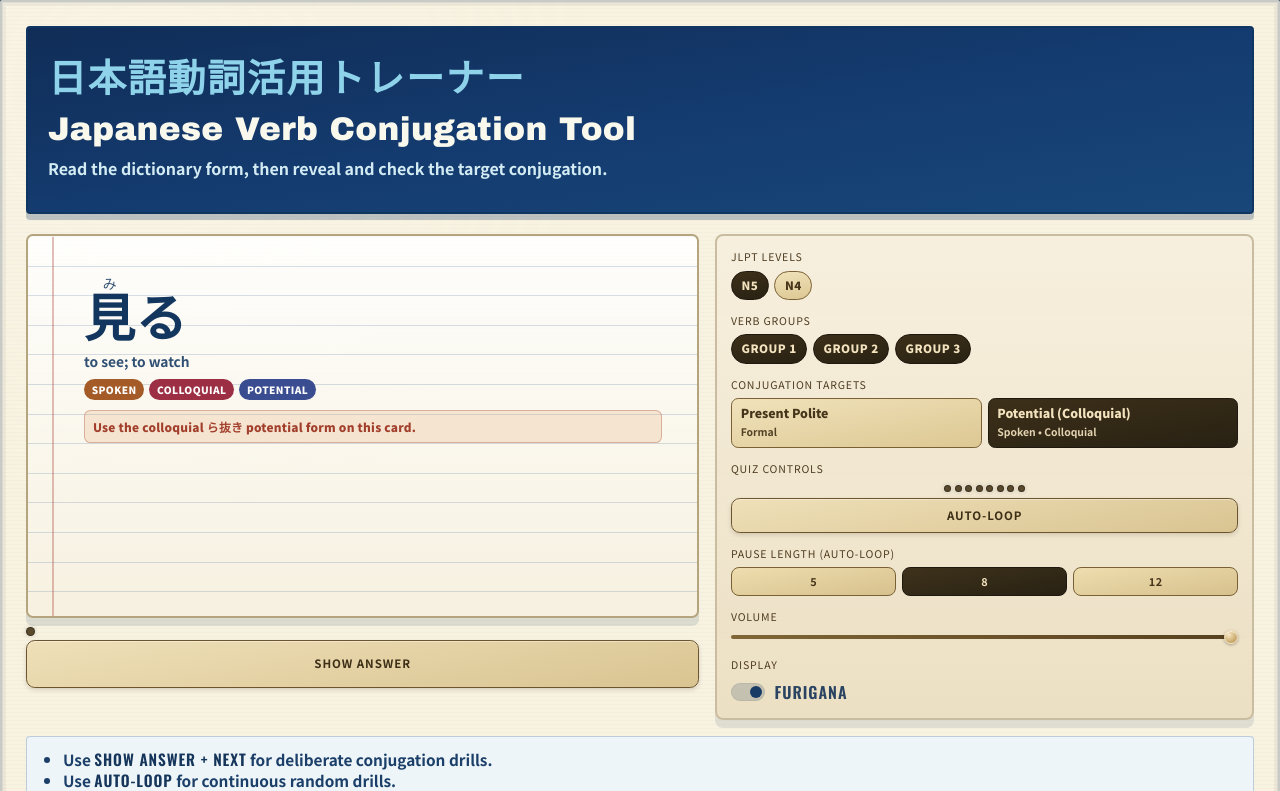
Test: JapaneseVerbConjugationToolPage › reveals immediately on first power-on and waits timer on later power-ons
Expected: the text "れる" is not shown
Click the button "Auto-Loop".
click(985, 515)  # box x1=731 y1=498 x2=1238 y2=533
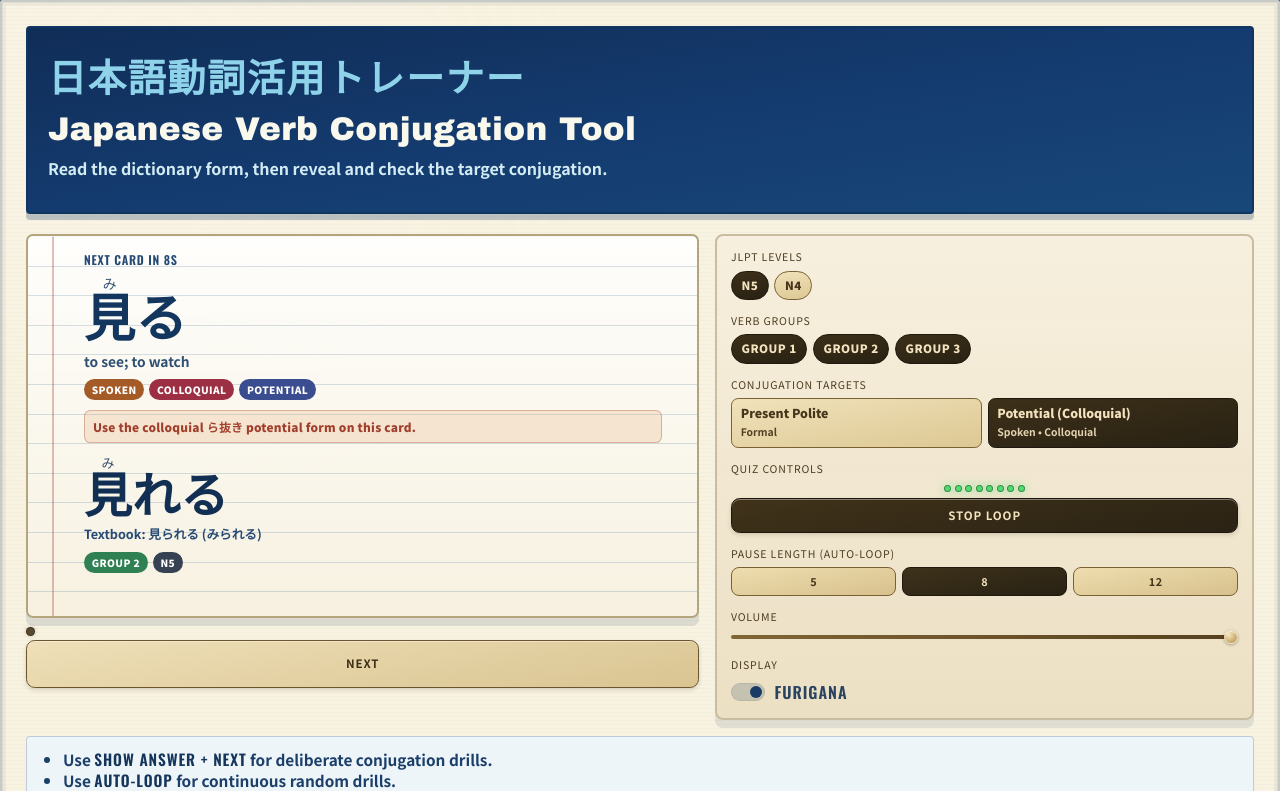
Now the text "れる" is shown, box x1=132 y1=456 x2=228 y2=526
Click the button "Stop Loop".
click(985, 515)  # box x1=731 y1=498 x2=1238 y2=533
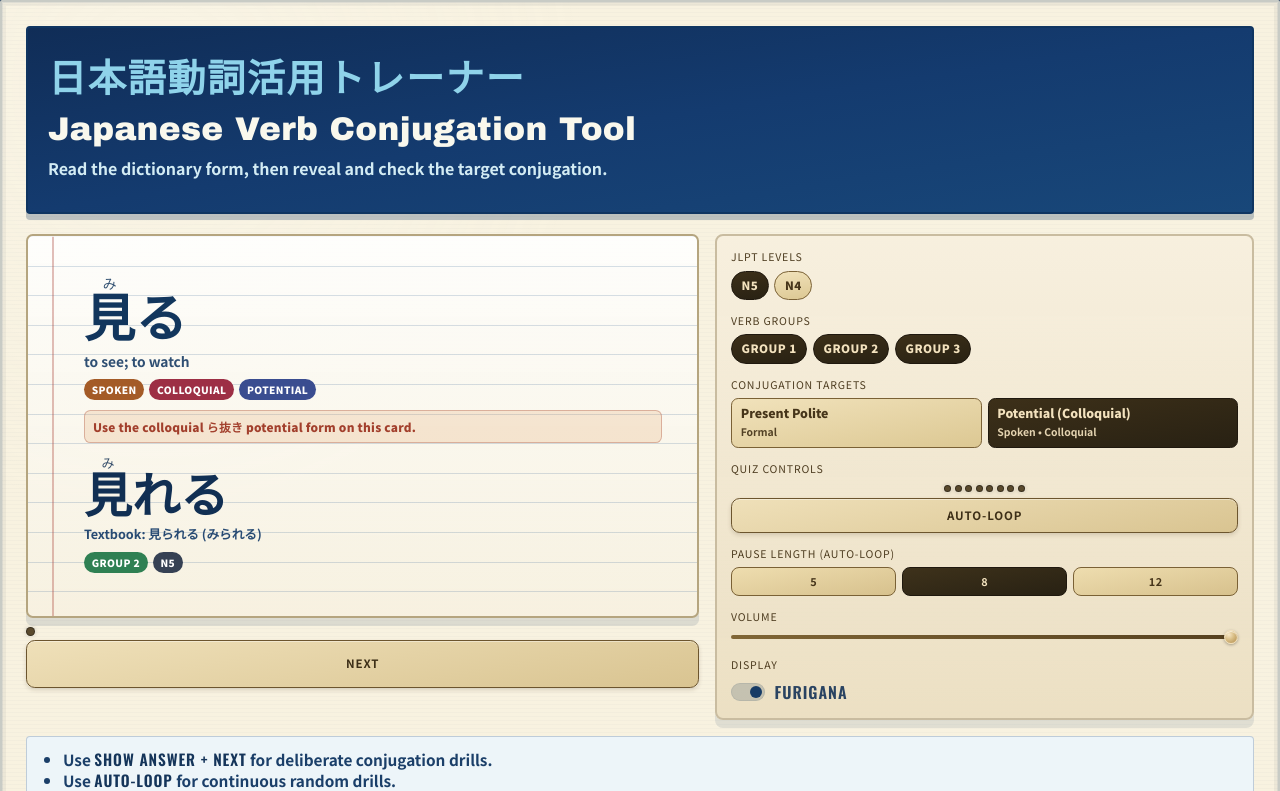
Click the button with aria-label "advance to the next item".
click(363, 664)  # box x1=26 y1=640 x2=699 y2=688
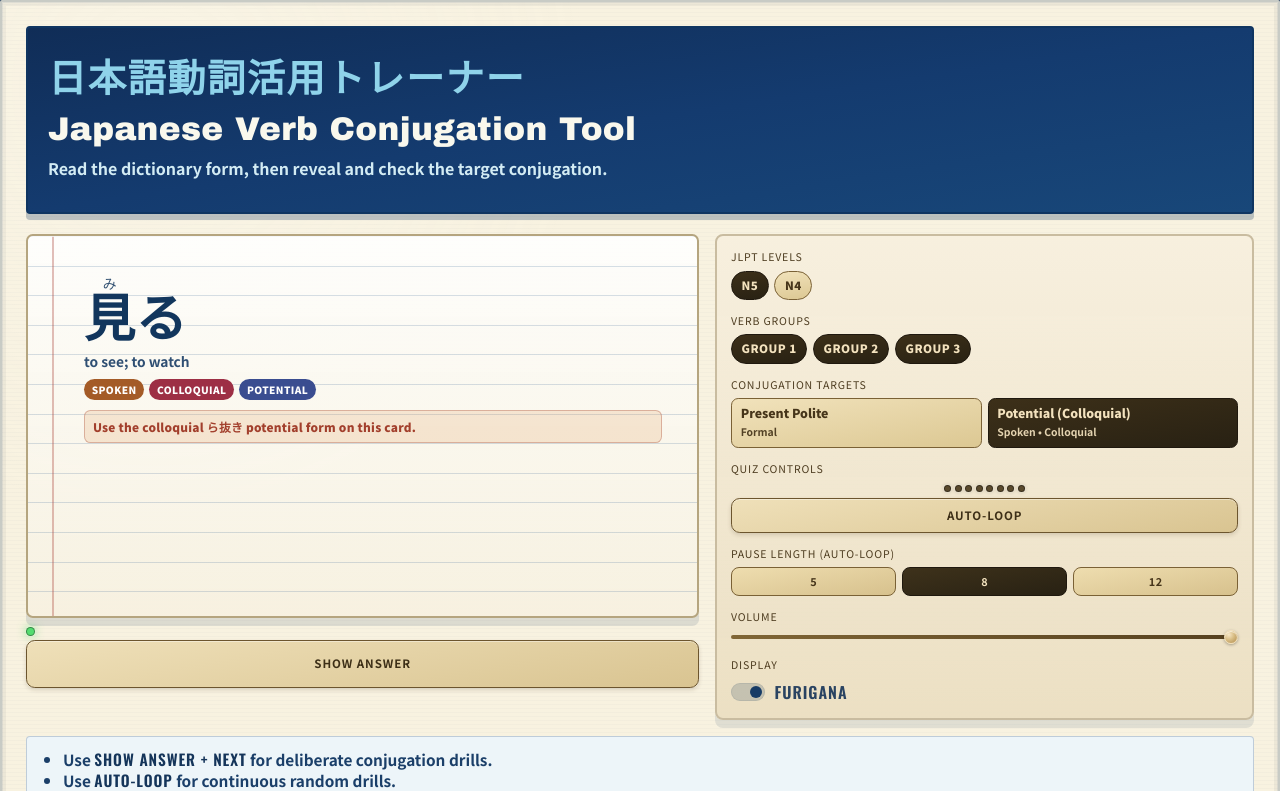
Now the text "れる" is gone
Click the button "Auto-Loop".
click(985, 515)  # box x1=731 y1=498 x2=1238 y2=533
Wait 8000 ms
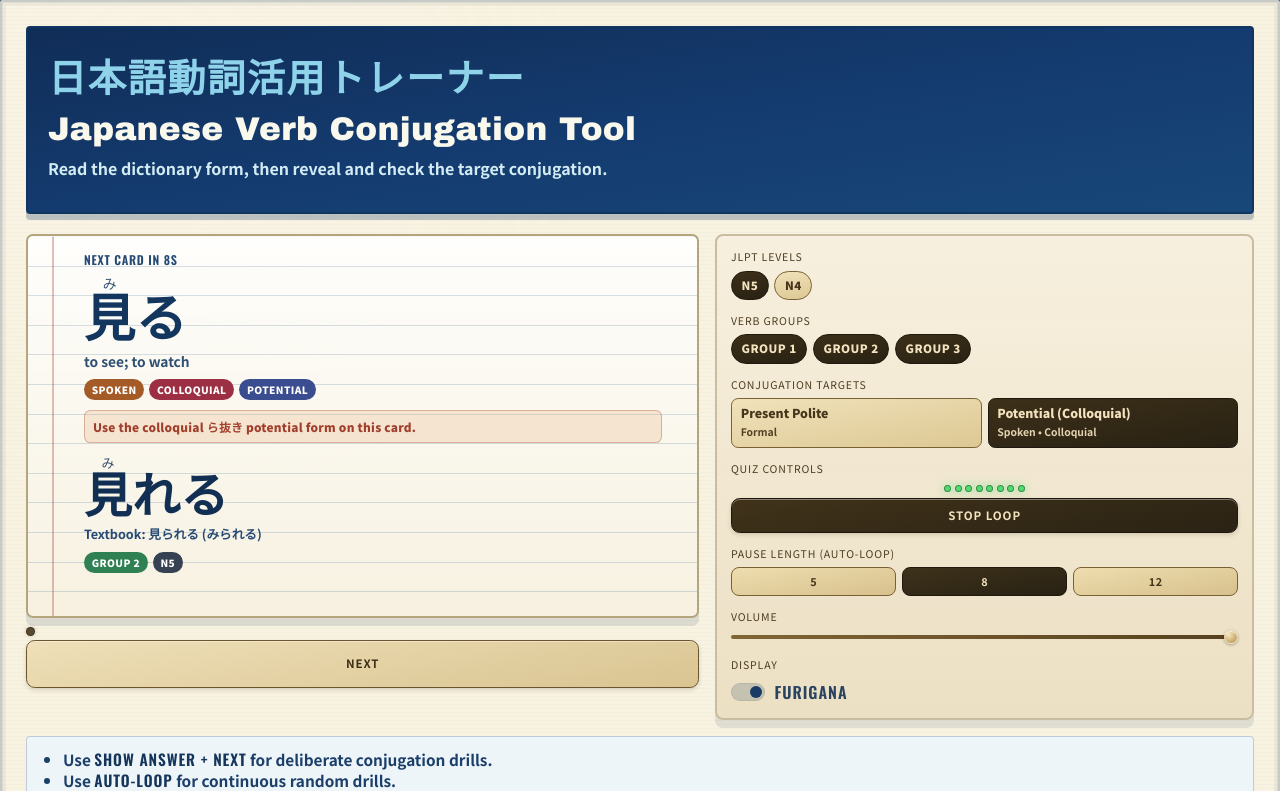
Now the text "れる" is shown, box x1=132 y1=456 x2=228 y2=526
